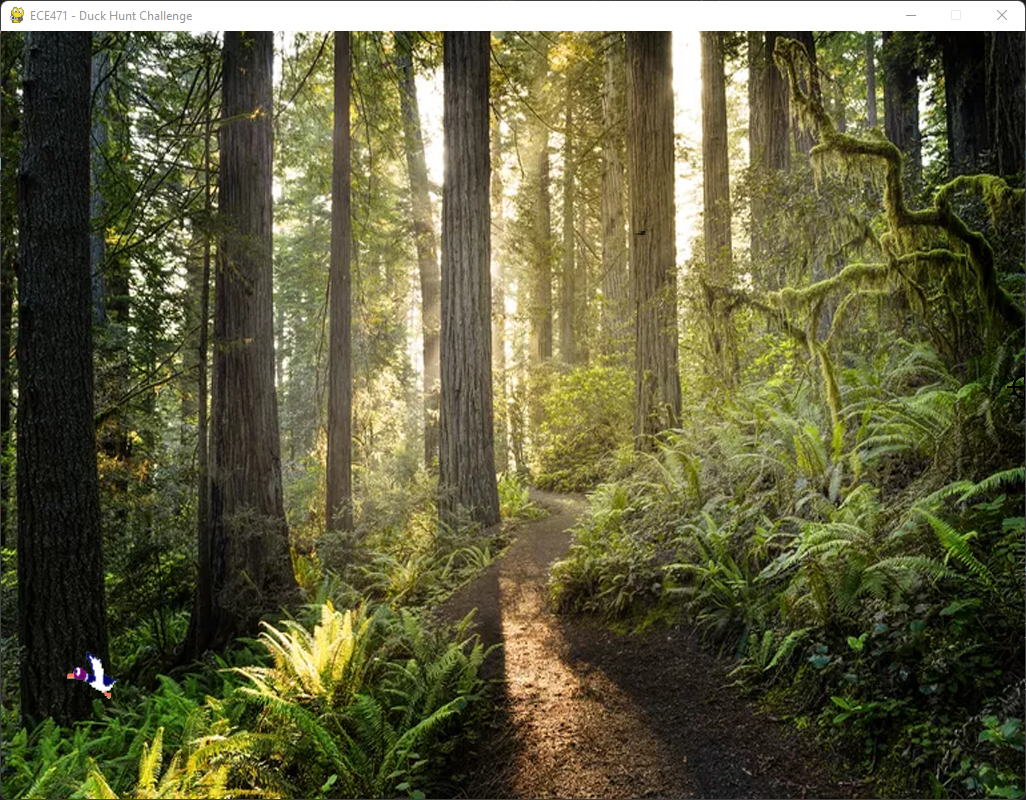blue: (57, 644, 131, 710)
